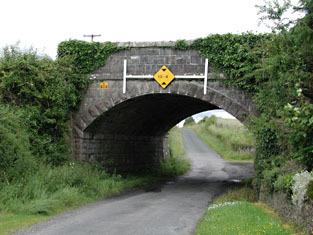bridge: (57, 40, 264, 131)
